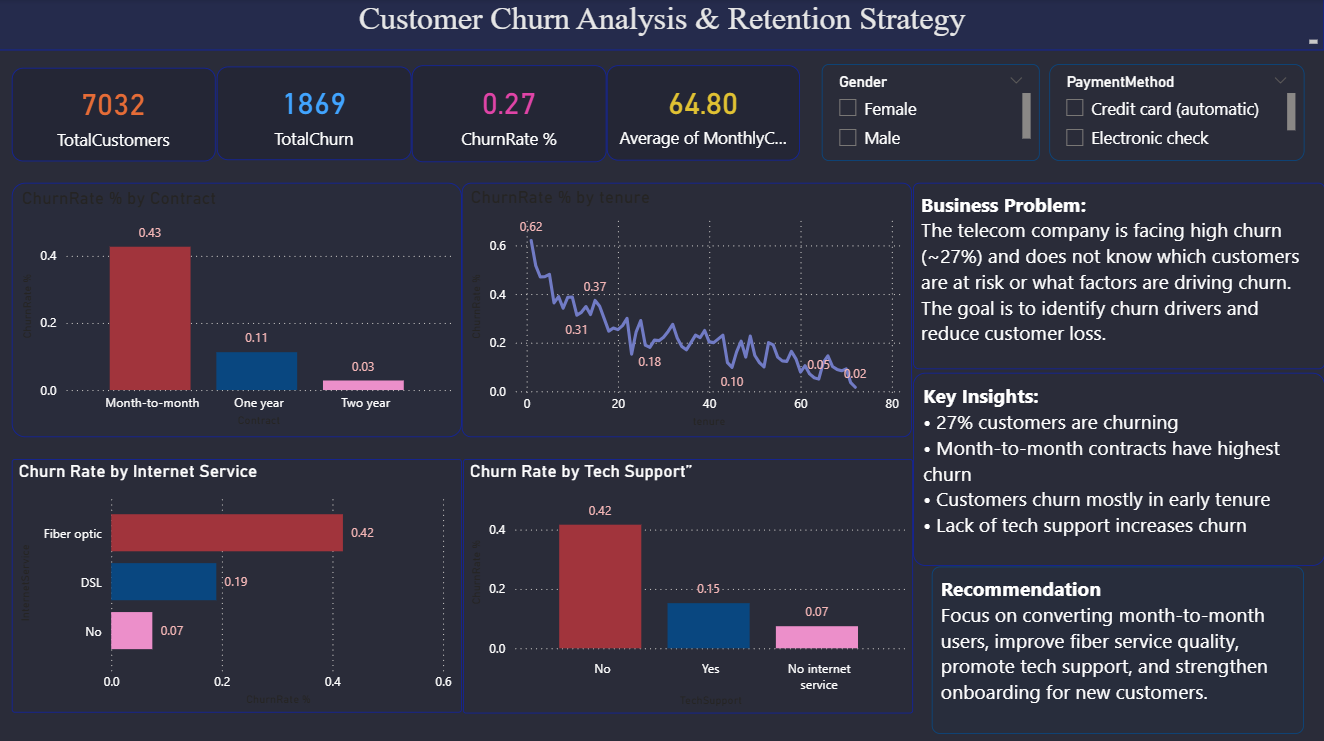

The dashboard page shown, as its layout file describes it:
{"tool":"powerbi","page":{"name":"Page 1","canvas":[1280,720],"ordinal":0},"visuals":[{"type":"textbox","title":"Customer Churn Analysis & Retention Strategy","box":[0,0,1280,49.5],"z":0},{"type":"card","fields":{"Values":["churn_predictions1.TotalCustomers"]},"box":[12.7,66.5,196.6,90.5],"z":1},{"type":"card","fields":{"Values":["churn_predictions1.ChurnRate %"]},"box":[398.9,63.6,188.1,93.3],"z":2},{"type":"card","fields":{"Values":["Avg(churn_predictions1.MonthlyCharges)"]},"box":[587,63.6,186.7,91.9],"z":3},{"type":"card","fields":{"Values":["churn_predictions1.TotalChurn"]},"box":[210.7,65.1,188.1,90.5],"z":4},{"type":"columnChart","fields":{"Category":["churn_predictions1.Contract"],"Y":["churn_predictions1.ChurnRate %"]},"box":[13,177.5,434.3,245.3],"z":5},{"type":"lineChart","fields":{"Category":["churn_predictions1.tenure"],"Y":["churn_predictions1.ChurnRate %"]},"box":[447.3,177.5,434.3,245.3],"z":6},{"type":"lineStackedColumnComboChart","title":"Churn Rate by Tech Support”","fields":{"Category":["churn_predictions1.TechSupport"],"Y":["churn_predictions1.ChurnRate %"]},"box":[448.7,444.4,434.3,245.3],"z":7},{"type":"barChart","title":"Churn Rate by Internet Service","fields":{"Category":["churn_predictions1.InternetService"],"Y":["churn_predictions1.ChurnRate %"]},"box":[13,444,434,245],"z":8},{"type":"textbox","box":[882.6,176.8,397.4,179.6],"z":9},{"type":"textbox","box":[882.6,360.7,397.4,186.7],"z":10},{"type":"slicer","fields":{"Values":["churn_predictions1.PaymentMethod"]},"box":[1014.1,62.2,246.1,93.3],"z":11},{"type":"slicer","fields":{"Values":["churn_predictions1.Gender"]},"box":[794.9,62.2,210.7,93.3],"z":12},{"type":"textbox","box":[901,547.4,359.2,161.2],"z":13}]}

Visuals, with their boxes in screenshot pixels (x1, y1, x2, y2), scaled from the page's 1280x720 canvas onto the 1324x741 screenshot:
"Customer Churn Analysis & Retention Strategy" textbox: Rect(0, 0, 1323, 51)
card - churn_predictions1.TotalCustomers: Rect(13, 68, 216, 162)
card - churn_predictions1.ChurnRate %: Rect(413, 65, 607, 161)
card - Avg(churn_predictions1.MonthlyCharges): Rect(607, 65, 800, 160)
card - churn_predictions1.TotalChurn: Rect(218, 67, 413, 160)
columnChart - churn_predictions1.Contract x churn_predictions1.ChurnRate %: Rect(13, 183, 463, 435)
lineChart - churn_predictions1.tenure x churn_predictions1.ChurnRate %: Rect(463, 183, 912, 435)
"Churn Rate by Tech Support”" lineStackedColumnComboChart: Rect(464, 457, 913, 710)
"Churn Rate by Internet Service" barChart: Rect(13, 457, 462, 709)
textbox: Rect(913, 182, 1323, 367)
textbox: Rect(913, 371, 1323, 563)
slicer - churn_predictions1.PaymentMethod: Rect(1049, 64, 1304, 160)
slicer - churn_predictions1.Gender: Rect(822, 64, 1040, 160)
textbox: Rect(932, 563, 1304, 729)
